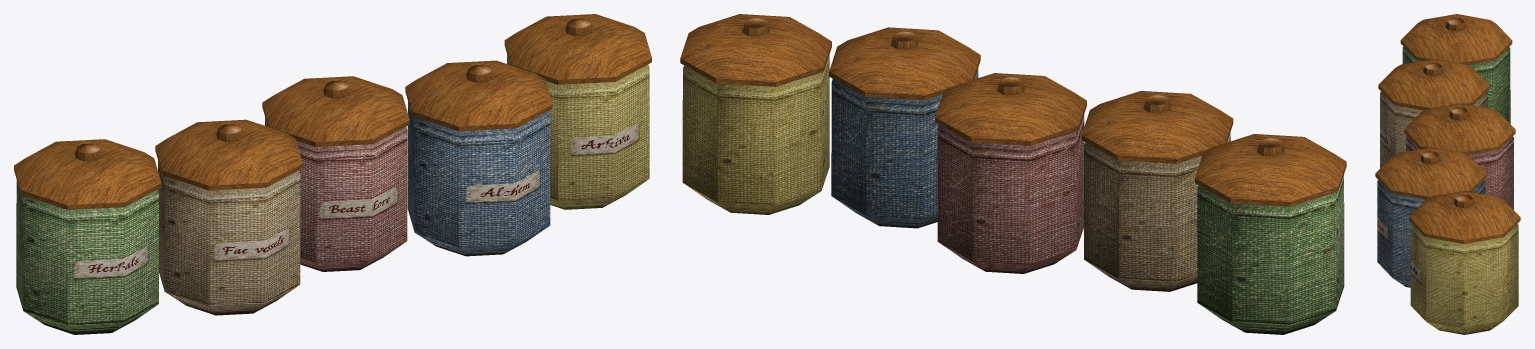
Rendered from mm9_deco_shelfitem06.glb.
3 views of the same model, side by side, from view 1: azimuth 30°, elevation 25°; view 2: azimuth 150°, elevation 25°; view 3: azimuth 270°, elevation 25° (orthographic). The views are drawn at different scales.
Parts seen in each view (by area): view 1: Shelfitem06; view 2: Shelfitem06; view 3: Shelfitem06.
Boxes of the visible parts, left/top/right/bottom form: Shelfitem06: left=14, top=14, right=651, bottom=334; Shelfitem06: left=680, top=14, right=1346, bottom=334; Shelfitem06: left=1375, top=14, right=1520, bottom=334.
Size of the model in its own units: 1.12 by 0.2887 by 0.3076.
2 materials, 2 textured.
